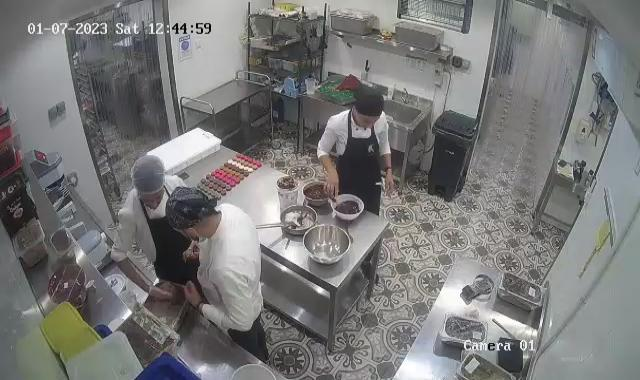hairnet: (132, 157, 166, 202)
no_hairnet: (165, 187, 212, 236), (353, 87, 385, 126)
